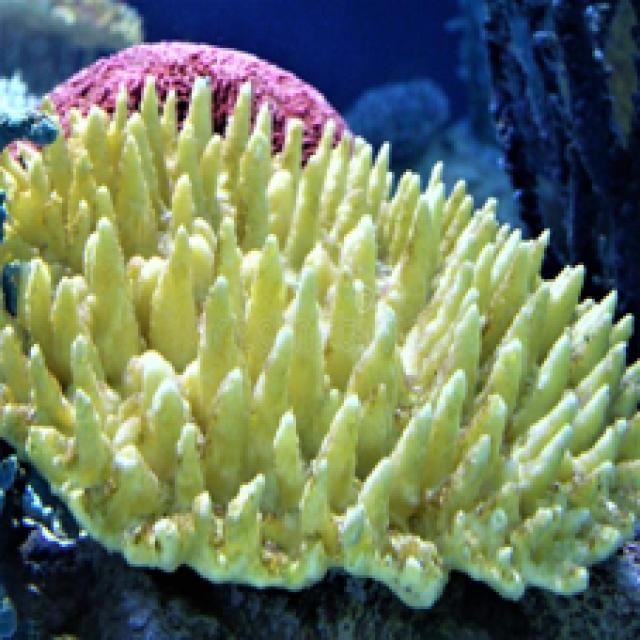Bleached: (1, 77, 638, 607)
Healthy: (49, 43, 348, 162)
